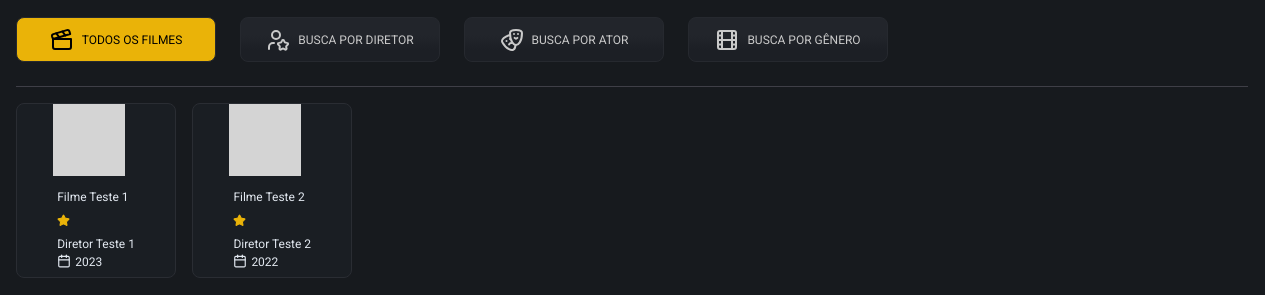
it: Home Page › deve resetar filmes quando mudar tipo de busca
This screenshot has width=1265, height=295.
Expected: the text "Filme Teste 1" is shown, x1=57 y1=188 x2=135 y2=206
# Mudar para busca por diretor
Click the button "BUSCA POR DIRETOR".
click(340, 40)  # box x1=240 y1=17 x2=440 y2=62
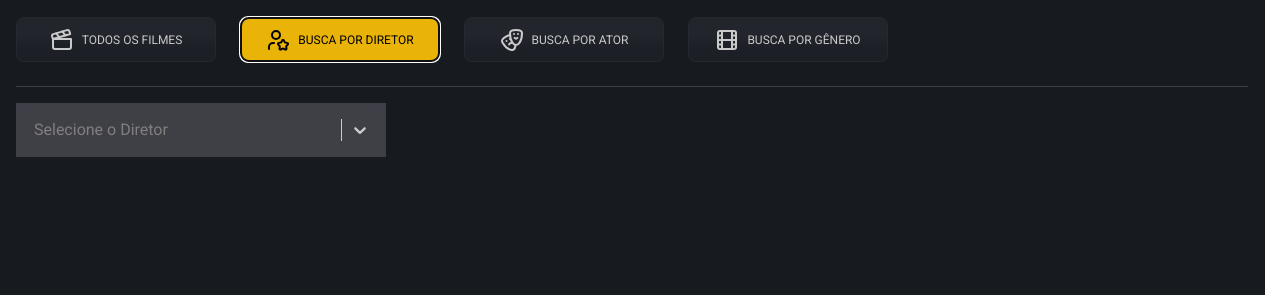
Now the link "Filme Teste 1" is gone
